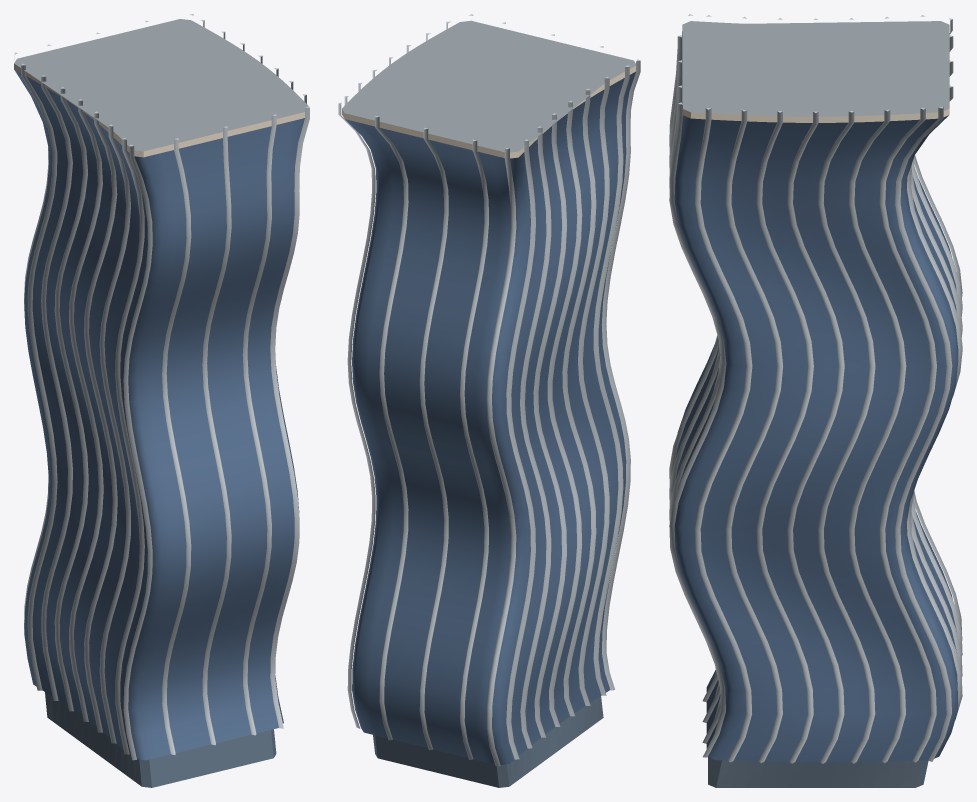
File: seoul-gt-tower.glb
3 views of the same model, side by side, from view 1: azimuth 30°, elevation 25°; view 2: azimuth 150°, elevation 25°; view 3: azimuth 270°, elevation 25° (orthographic). The views are drawn at different scales.
Visible parts, largest first — view 1: GT Tower; view 2: GT Tower; view 3: GT Tower.
Boxes of the visible parts, x1,y1,x2,y2 form: GT Tower: (14,14,309,787); GT Tower: (338,14,640,787); GT Tower: (669,14,962,787).
Bounding box in the file's own units: 40.68 × 132 × 50.85.
